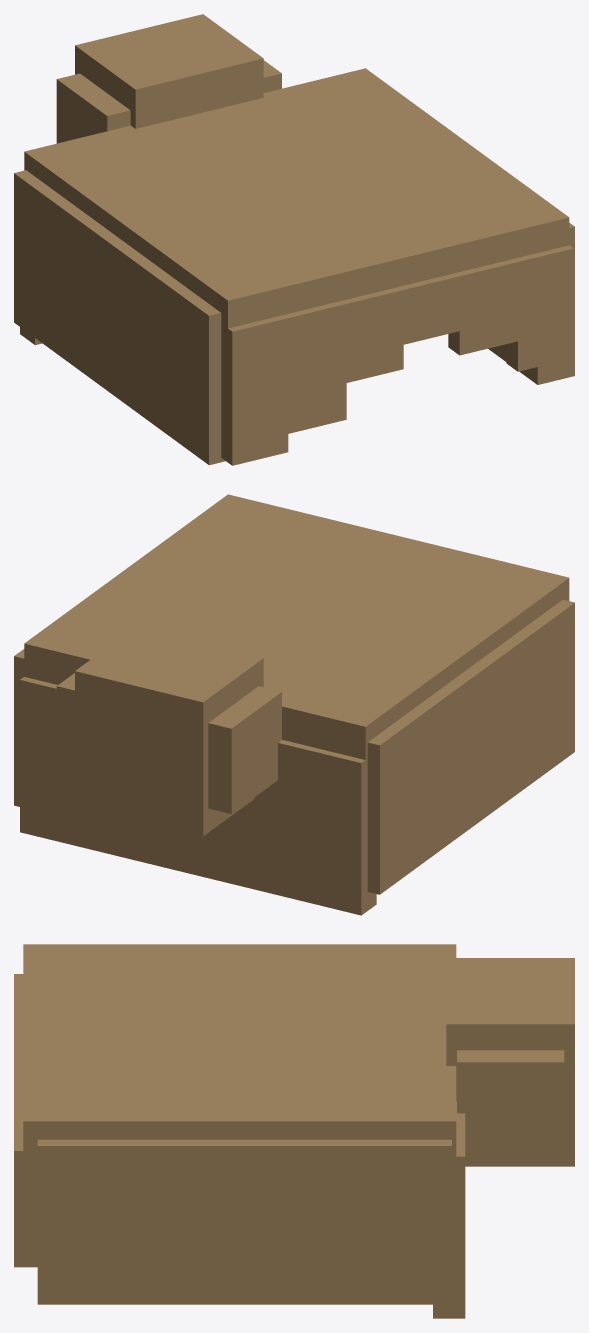
Rendered from hair_bun.glb.
The picture shows the model from 3 angles, top to bottom: view 1: azimuth 30°, elevation 25°; view 2: azimuth 150°, elevation 25°; view 3: azimuth 270°, elevation 25°; orthographic projection. The views are drawn at different scales.
Visible parts, largest first — view 1: char_hair_visual; view 2: char_hair_visual; view 3: char_hair_visual.
Boxes of the visible parts, x1,y1,x2,y2 form: char_hair_visual: (14,14,574,465); char_hair_visual: (14,494,574,915); char_hair_visual: (14,944,574,1318).
Size of the model in its own units: 0.628 by 0.369 by 0.785.
